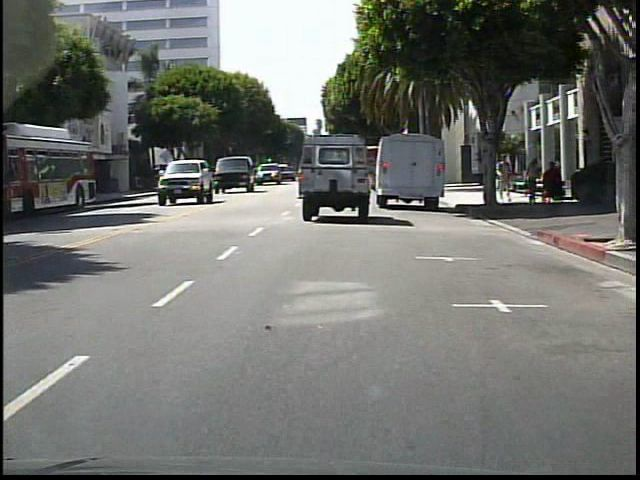person: (496, 153, 512, 204), (524, 159, 540, 202)
